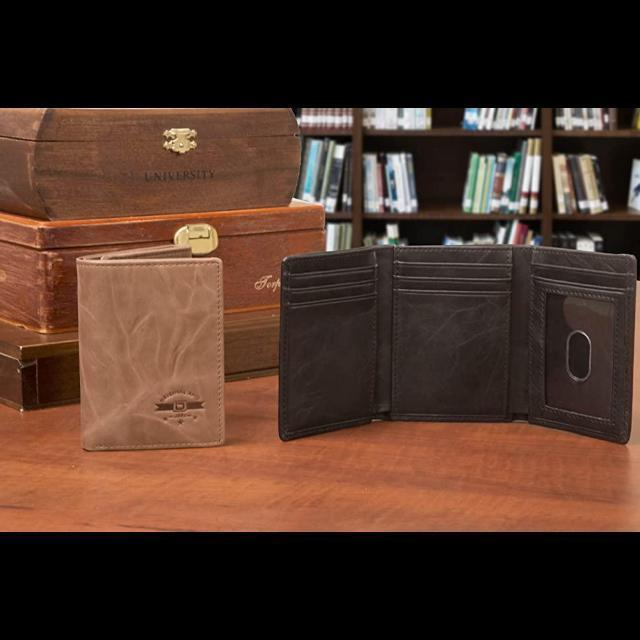wallet: (277, 242, 635, 448), (76, 240, 228, 452)
